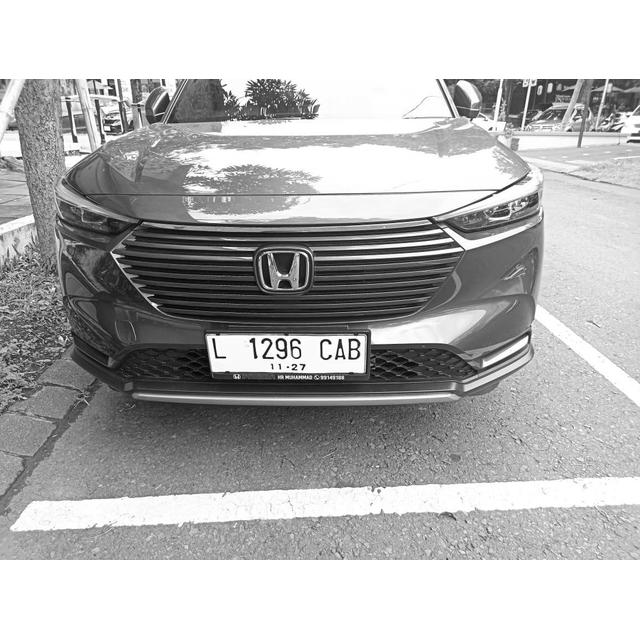license: (207, 335, 367, 375)
